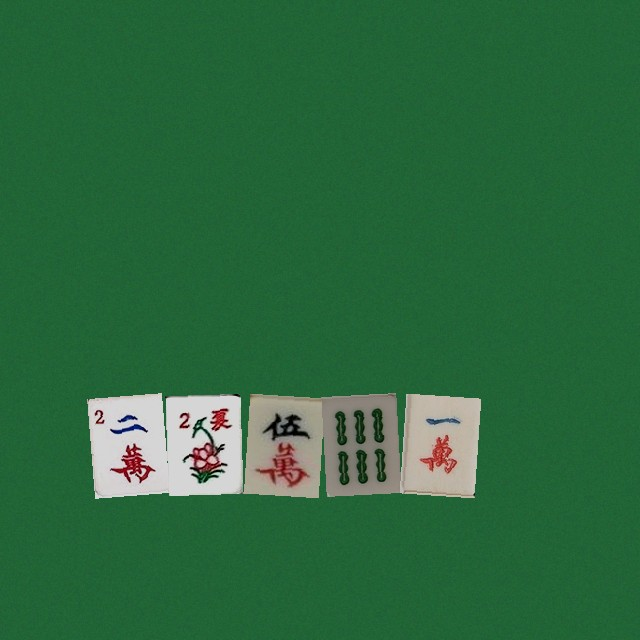tile: (87, 393, 162, 493), (165, 393, 240, 493), (243, 393, 318, 493), (321, 393, 396, 493), (399, 393, 474, 493)
